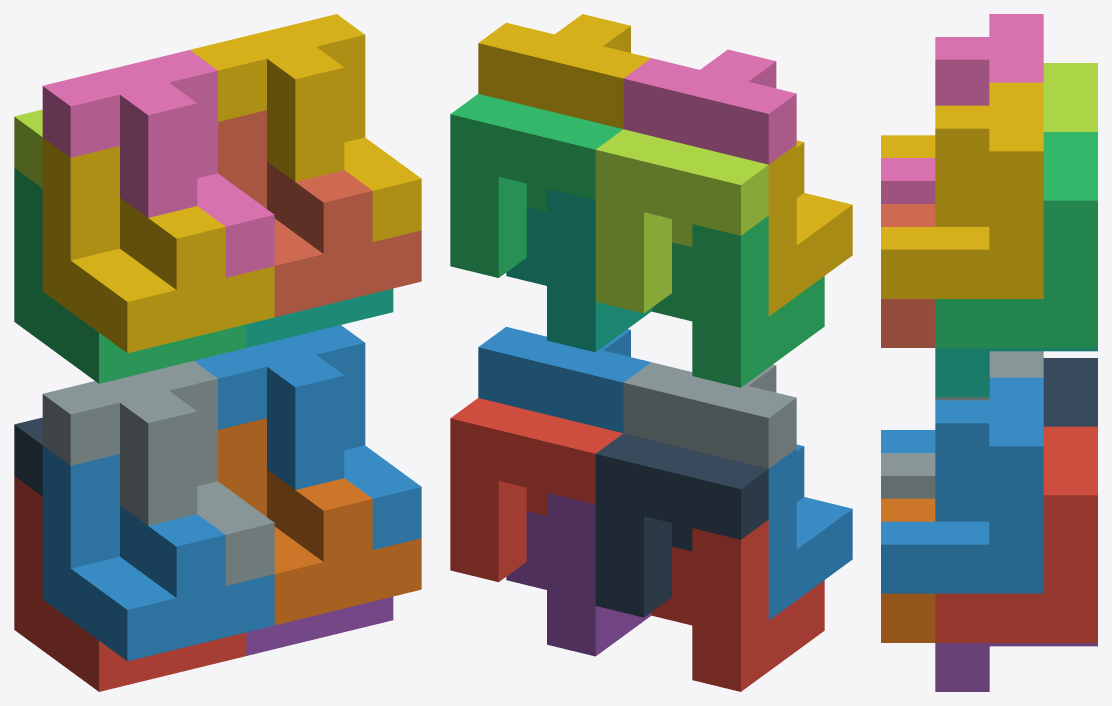
File: tiling.obj
3 views of the same model, side by side, from view 1: azimuth 30°, elevation 25°; view 2: azimuth 150°, elevation 25°; view 3: azimuth 270°, elevation 25° (orthographic). The views are drawn at different scales.
Parts seen in each view (by area): view 1: copy_1_domain_2, copy_1_domain_4, copy_2_domain_4, copy_2_domain_2, copy_2_domain_8, copy_2_domain_6, copy_1_domain_6, copy_1_domain_8, copy_1_domain_1, copy_1_domain_3, copy_1_domain_5, copy_1_domain_7 (+2 smaller); view 2: copy_2_domain_1, copy_2_domain_3, copy_2_domain_7, copy_2_domain_5, copy_1_domain_1, copy_1_domain_3, copy_2_domain_4, copy_2_domain_2, copy_2_domain_8, copy_2_domain_6, copy_1_domain_5, copy_1_domain_7 (+2 smaller); view 3: copy_2_domain_6, copy_2_domain_8, copy_2_domain_5, copy_2_domain_7, copy_2_domain_4, copy_2_domain_2, copy_1_domain_6, copy_1_domain_8, copy_2_domain_1, copy_2_domain_3, copy_1_domain_7, copy_1_domain_5 (+2 smaller).
Boxes of the visible parts, x1,y1,x2,y2 form: copy_1_domain_2: (42, 445, 274, 661); copy_1_domain_4: (42, 137, 274, 353); copy_2_domain_4: (42, 50, 274, 277); copy_2_domain_2: (42, 361, 274, 585); copy_2_domain_8: (190, 14, 421, 241); copy_2_domain_6: (194, 325, 421, 549); copy_1_domain_6: (218, 418, 421, 625); copy_1_domain_8: (218, 110, 421, 317); copy_1_domain_1: (14, 476, 246, 691); copy_1_domain_3: (14, 168, 246, 383); copy_1_domain_5: (246, 596, 393, 655); copy_1_domain_7: (246, 288, 393, 347); copy_2_domain_1: (595, 433, 768, 617); copy_2_domain_3: (595, 129, 768, 313); copy_2_domain_7: (450, 94, 623, 277); copy_2_domain_5: (450, 398, 622, 581); copy_1_domain_1: (651, 520, 824, 691); copy_1_domain_3: (651, 216, 824, 387); copy_2_domain_4: (623, 49, 796, 164); copy_2_domain_2: (623, 362, 796, 468); copy_2_domain_8: (478, 14, 650, 128); copy_2_domain_6: (478, 326, 650, 433); copy_1_domain_5: (506, 492, 651, 656); copy_1_domain_7: (506, 188, 651, 352); copy_2_domain_6: (881, 377, 1043, 593); copy_2_domain_8: (881, 82, 1043, 298); copy_2_domain_5: (935, 426, 1097, 642); copy_2_domain_7: (935, 132, 1097, 347); copy_2_domain_4: (881, 14, 1043, 203); copy_2_domain_2: (881, 351, 1043, 498); copy_1_domain_6: (881, 498, 935, 642); copy_1_domain_8: (881, 204, 935, 347); copy_2_domain_1: (1043, 358, 1097, 426); copy_2_domain_3: (1043, 63, 1097, 131); copy_1_domain_7: (935, 348, 1097, 397); copy_1_domain_5: (935, 643, 1097, 691).
Bounding box in the file's own units: 6 × 11 × 4.
